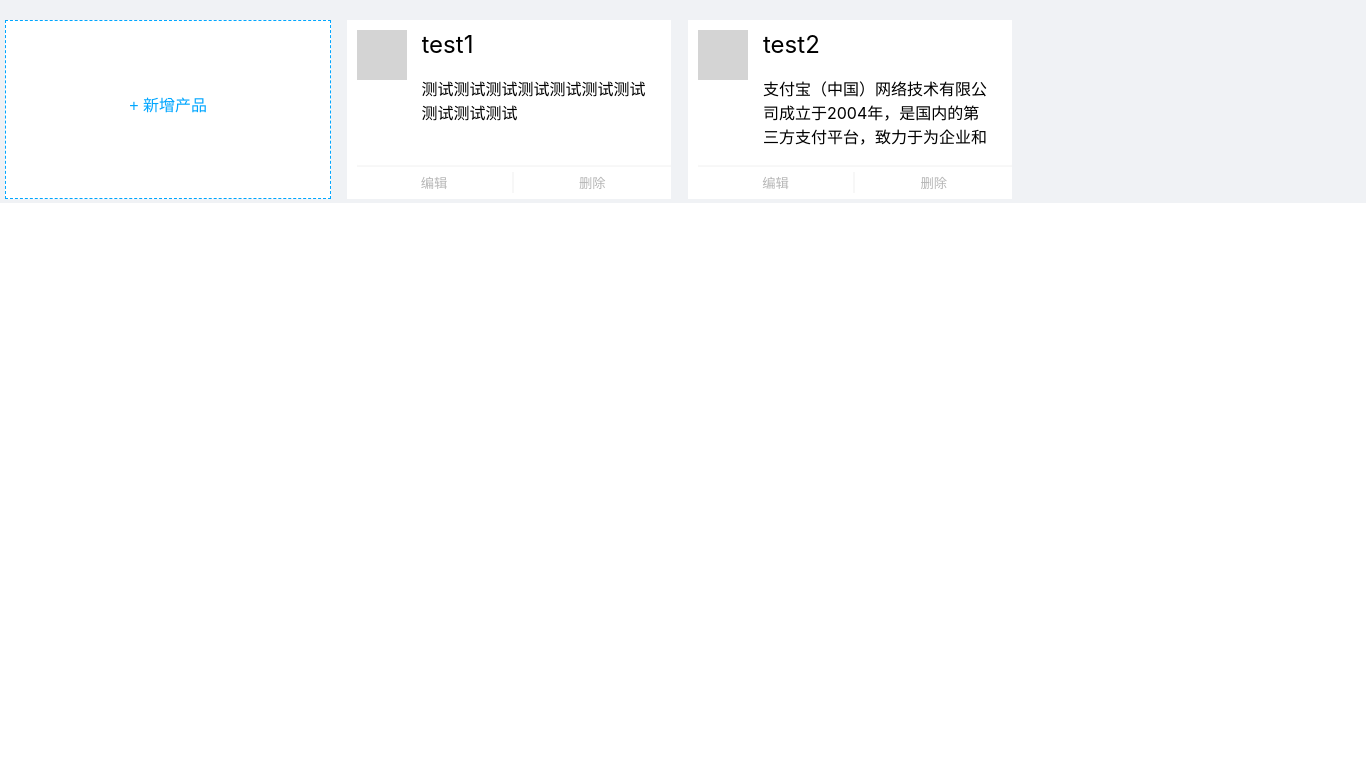
test productList component › should render delete modal when click delete button
The image size is (1366, 768).
Click the button with test id "delete_btn" below "测试测试测试测试测试测试测试测试测试测试": (592, 182) 514,172 -> 671,193
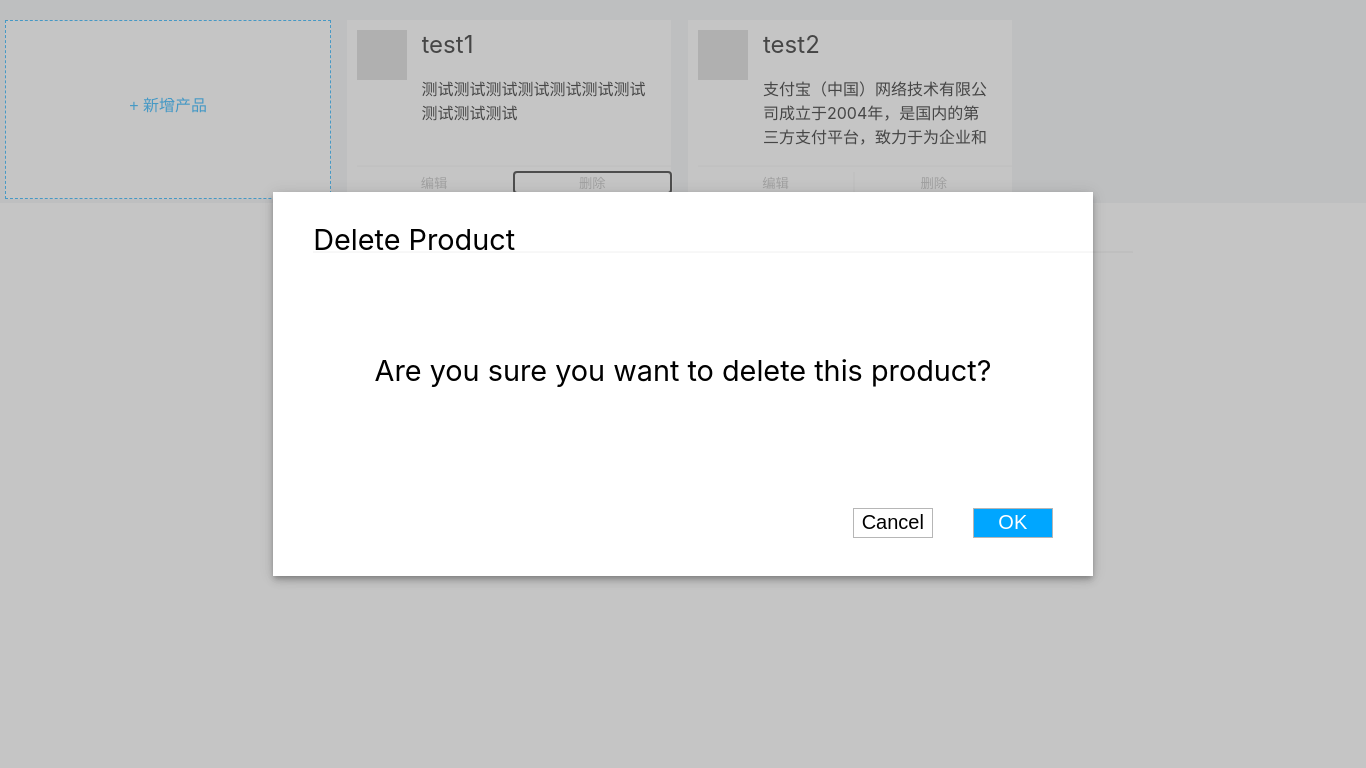
expect the text "Are you sure you want to delete this product?" is shown: met, box 375,353 -> 992,388
